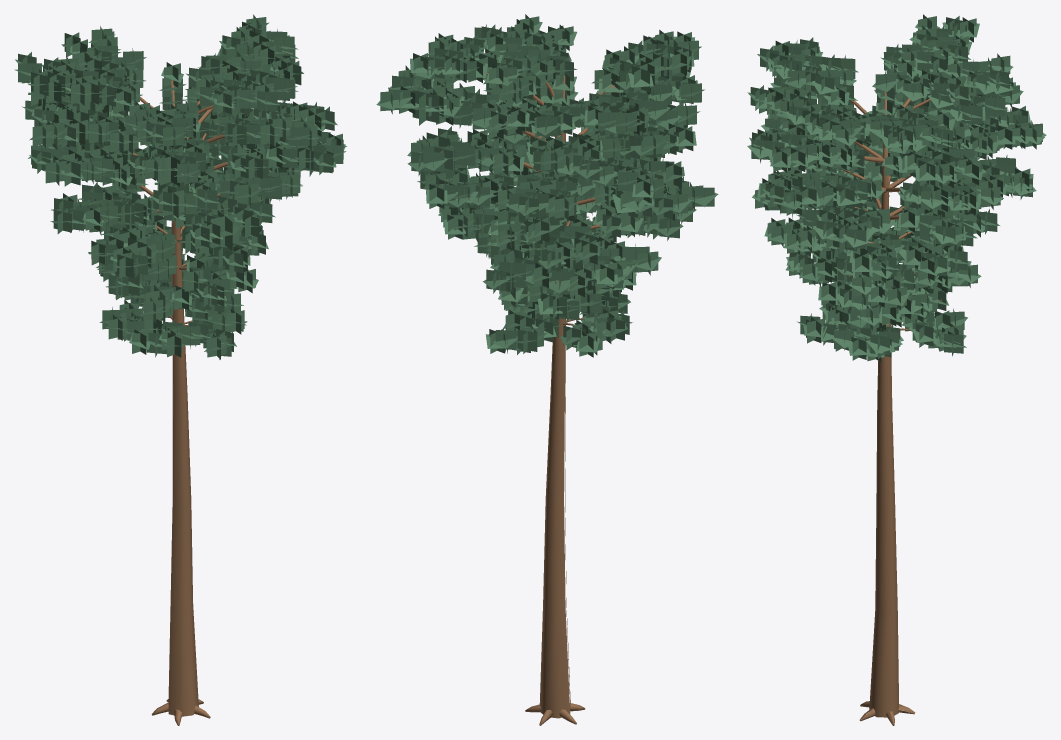
File: pin_5_f2_jeu.glb
3 renders of one model, left to right at view 1: azimuth 30°, elevation 25°; view 2: azimuth 150°, elevation 25°; view 3: azimuth 270°, elevation 25°, orthographic. The views are drawn at different scales.
Visible parts, largest first — view 1: Pin_T5_f2_Leger; view 2: Pin_T5_f2_Leger; view 3: Pin_T5_f2_Leger.
Boxes of the visible parts, x1=… form: Pin_T5_f2_Leger: x1=14, y1=14, x2=346, y2=725; Pin_T5_f2_Leger: x1=376, y1=14, x2=718, y2=725; Pin_T5_f2_Leger: x1=747, y1=14, x2=1046, y2=725.
Size of the model in its own units: 9.81 by 21.72 by 9.22.
